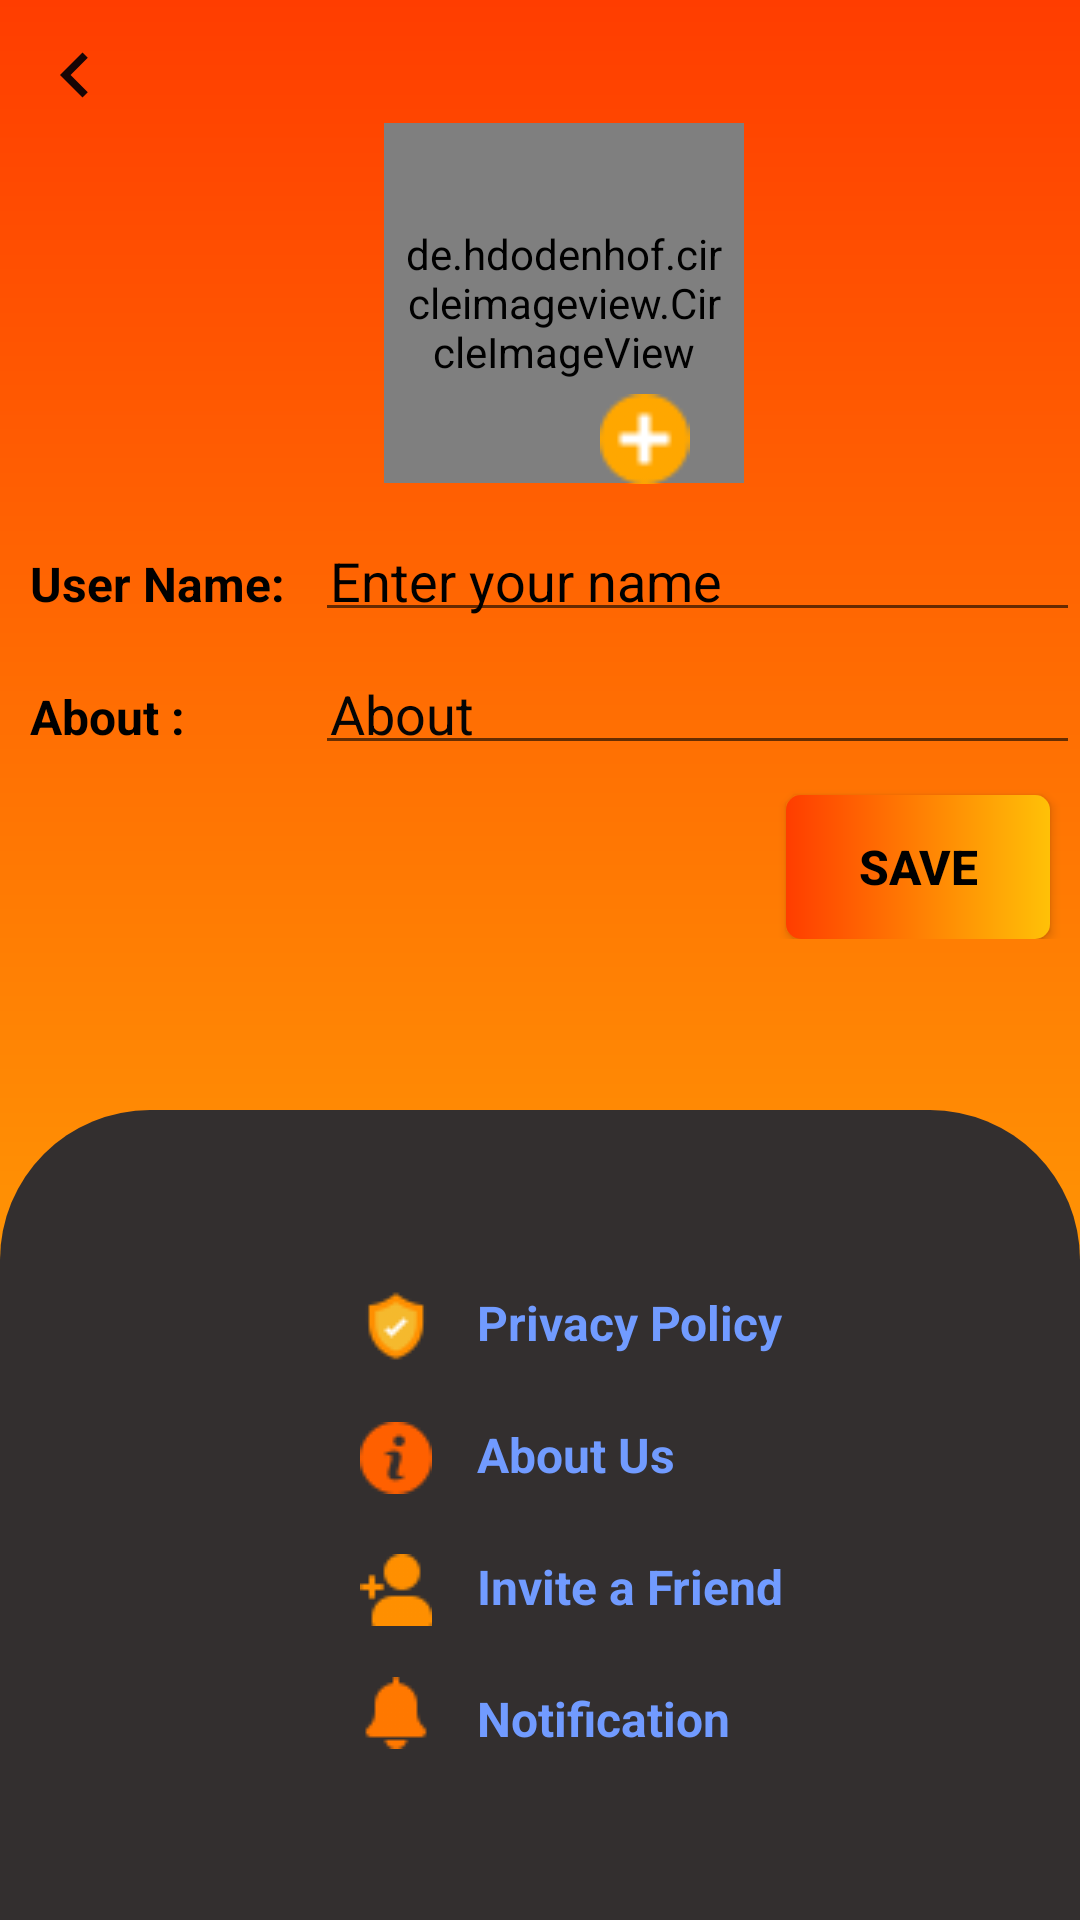

Screen size 1080×1920. Icon name, then its box in pixels as (x1, y1, x2, y2):
left: (60, 52, 88, 98)
plus: (577, 394, 712, 484)
